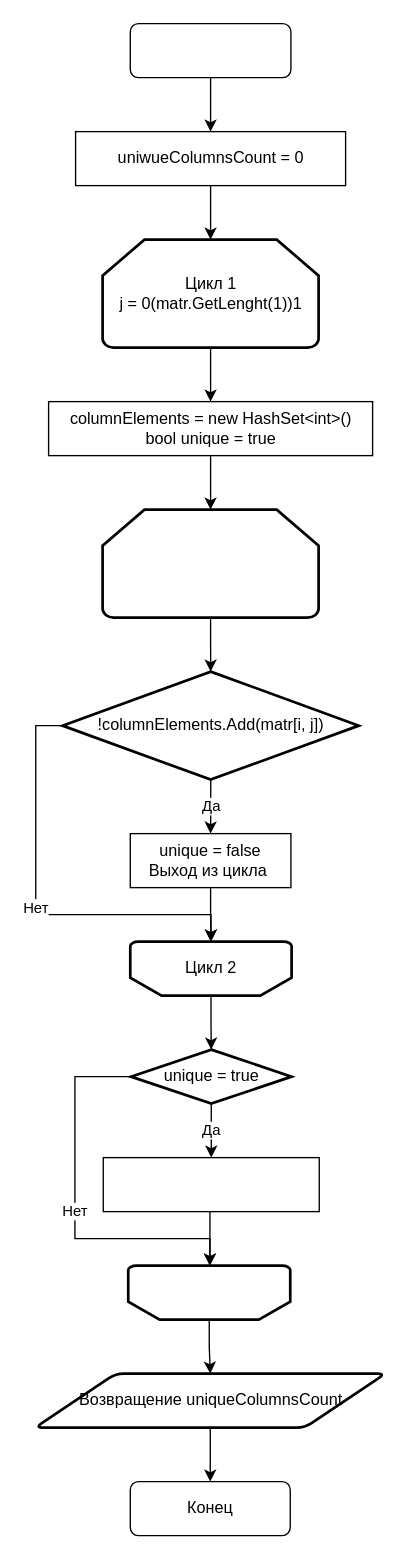
Image size: 410x1559. Some labels were removed from this diagram. Each missing label, with the centre of its shape:
"uniqueColumnsCount++" belongs at (x=210, y=1184).
"Начало" belongs at (x=210, y=50).
"Цикл 1" belongs at (x=208, y=1292).
"Цикл 2 i = 0( matr.GetLenght(0))1" belongs at (x=210, y=563).
